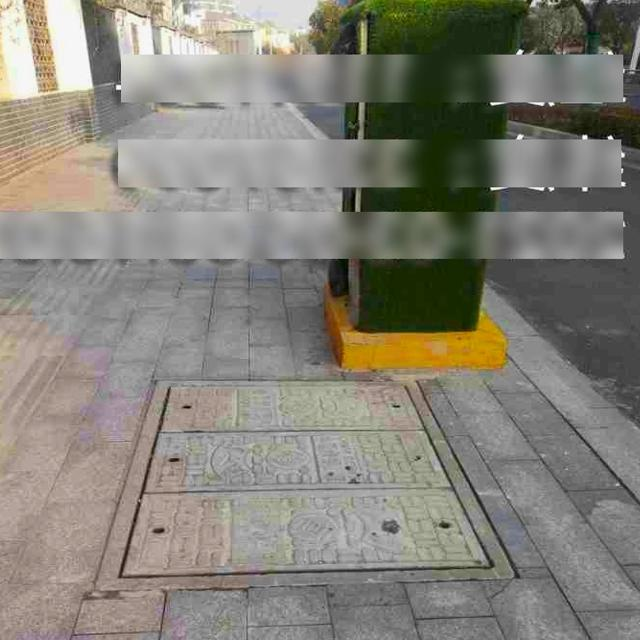good: (93, 371, 515, 590)
